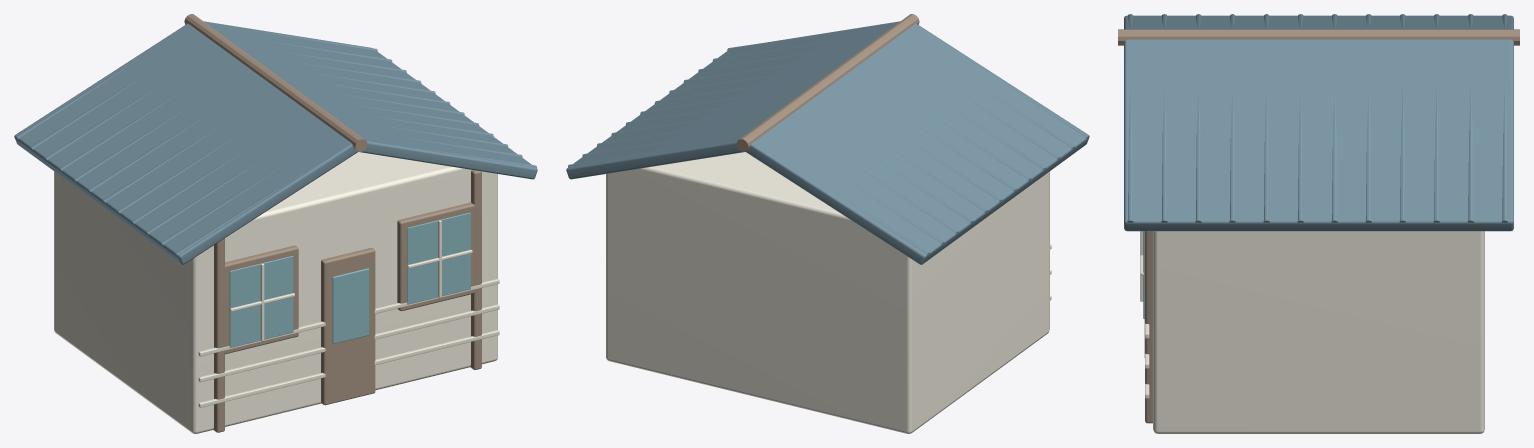
Rendered from st_house_v02.fbx.
3 renders of one model, left to right at view 1: azimuth 30°, elevation 25°; view 2: azimuth 150°, elevation 25°; view 3: azimuth 270°, elevation 25°, orthographic. The views are drawn at different scales.
Parts seen in each view (by area): view 1: Walls, RoofSlope, RoofSlope.001, Door, WindowGlass, WindowGlass.001, DoorGlass, Ridge, WindowFrame.001, WindowFrame, Corner, Corner.001 (+3 smaller); view 2: Walls, RoofSlope, RoofSlope.001, Ridge; view 3: RoofSlope.001, Walls, RoofSlope, Ridge, Corner.001, RoofTile.007, RoofTile.003, RoofTile.005, RoofTile.009, RoofTile.001, RoofTile.011, RoofTile.013 (+5 smaller).
Part boxes in pixels (bbox=[...]): Walls: bbox=[54, 152, 497, 433]; RoofSlope: bbox=[14, 23, 357, 264]; RoofSlope.001: bbox=[204, 21, 537, 179]; Door: bbox=[321, 248, 375, 405]; WindowGlass: bbox=[229, 255, 293, 347]; WindowGlass.001: bbox=[407, 212, 470, 304]; DoorGlass: bbox=[332, 268, 369, 343]; Ridge: bbox=[184, 14, 367, 151]; WindowFrame.001: bbox=[397, 202, 475, 311]; WindowFrame: bbox=[224, 245, 298, 354]; Corner: bbox=[213, 238, 224, 432]; Corner.001: bbox=[470, 170, 481, 369]; Walls: bbox=[606, 152, 1049, 433]; RoofSlope: bbox=[746, 23, 1089, 264]; RoofSlope.001: bbox=[566, 21, 899, 179]; Ridge: bbox=[736, 14, 919, 151]; RoofSlope.001: bbox=[1124, 39, 1513, 231]; Walls: bbox=[1153, 231, 1484, 433]; RoofSlope: bbox=[1124, 15, 1513, 29]; Ridge: bbox=[1118, 29, 1519, 45]; Corner.001: bbox=[1145, 231, 1152, 423]; RoofTile.007: bbox=[1399, 84, 1405, 222]; RoofTile.003: bbox=[1467, 86, 1473, 222]; RoofTile.005: bbox=[1433, 85, 1439, 222]; RoofTile.009: bbox=[1365, 85, 1371, 222]; RoofTile.001: bbox=[1501, 87, 1507, 222]; RoofTile.011: bbox=[1331, 85, 1337, 222]; RoofTile.013: bbox=[1297, 86, 1303, 222].
Bounding box in the file's own units: 5.89 × 4.23 × 4.84.
